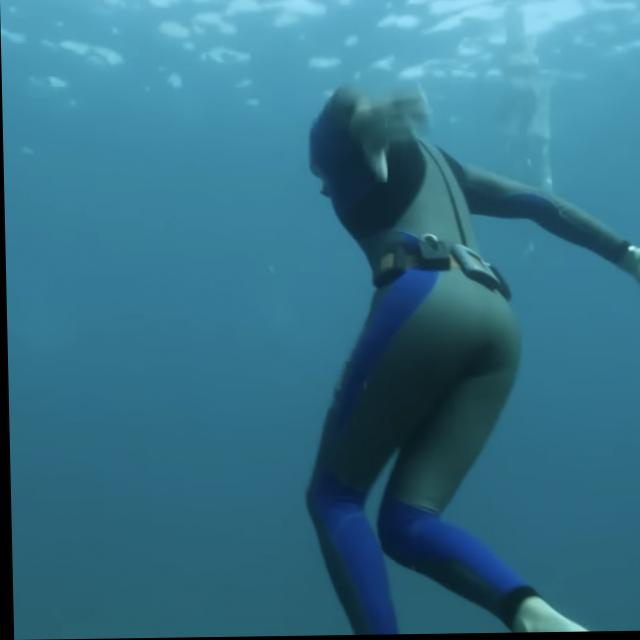human: (286, 75, 640, 637)
